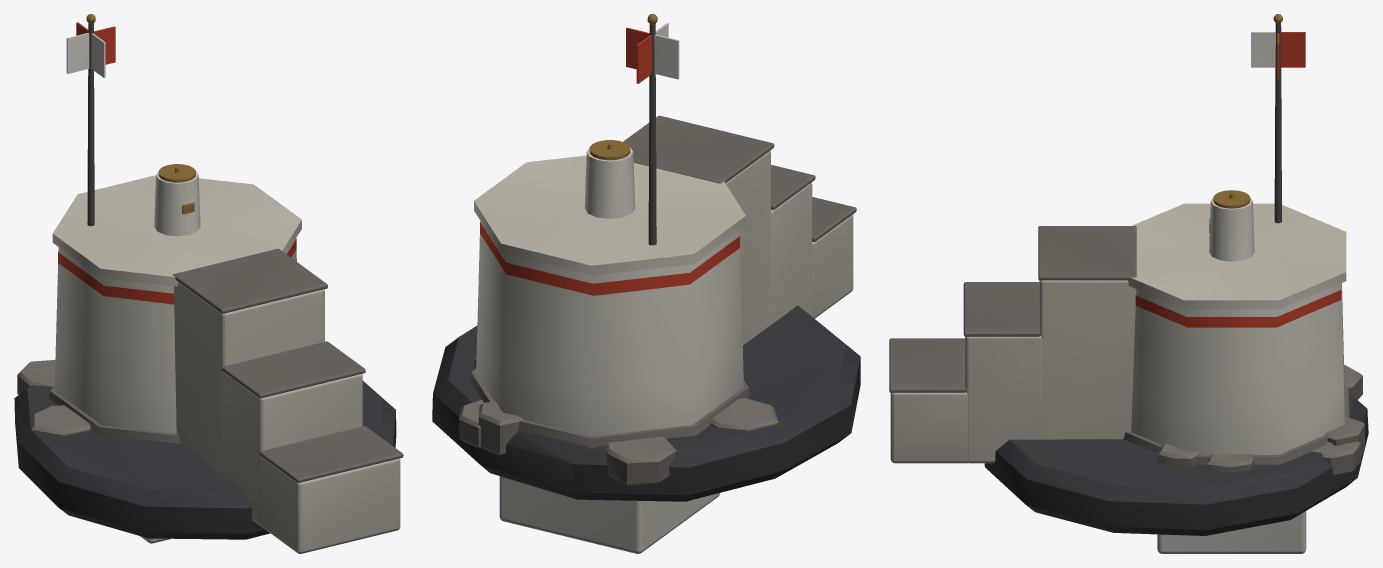
The model's file is survey-marks.glb.
The picture shows the model from 3 angles, left to right: view 1: azimuth 30°, elevation 25°; view 2: azimuth 150°, elevation 25°; view 3: azimuth 270°, elevation 25°; orthographic projection. The views are drawn at different scales.
Visible parts, largest first — view 1: trig-pillar, benchmark; view 2: trig-pillar, benchmark; view 3: trig-pillar, benchmark.
Boxes of the visible parts, bbox=[...] form: trig-pillar: bbox=[14, 14, 403, 553]; benchmark: bbox=[17, 360, 171, 543]; trig-pillar: bbox=[432, 14, 860, 501]; benchmark: bbox=[459, 354, 778, 553]; trig-pillar: bbox=[889, 14, 1368, 535]; benchmark: bbox=[1157, 364, 1364, 553].
Bounding box in the file's own units: 6.14 × 8.53 × 7.73.
